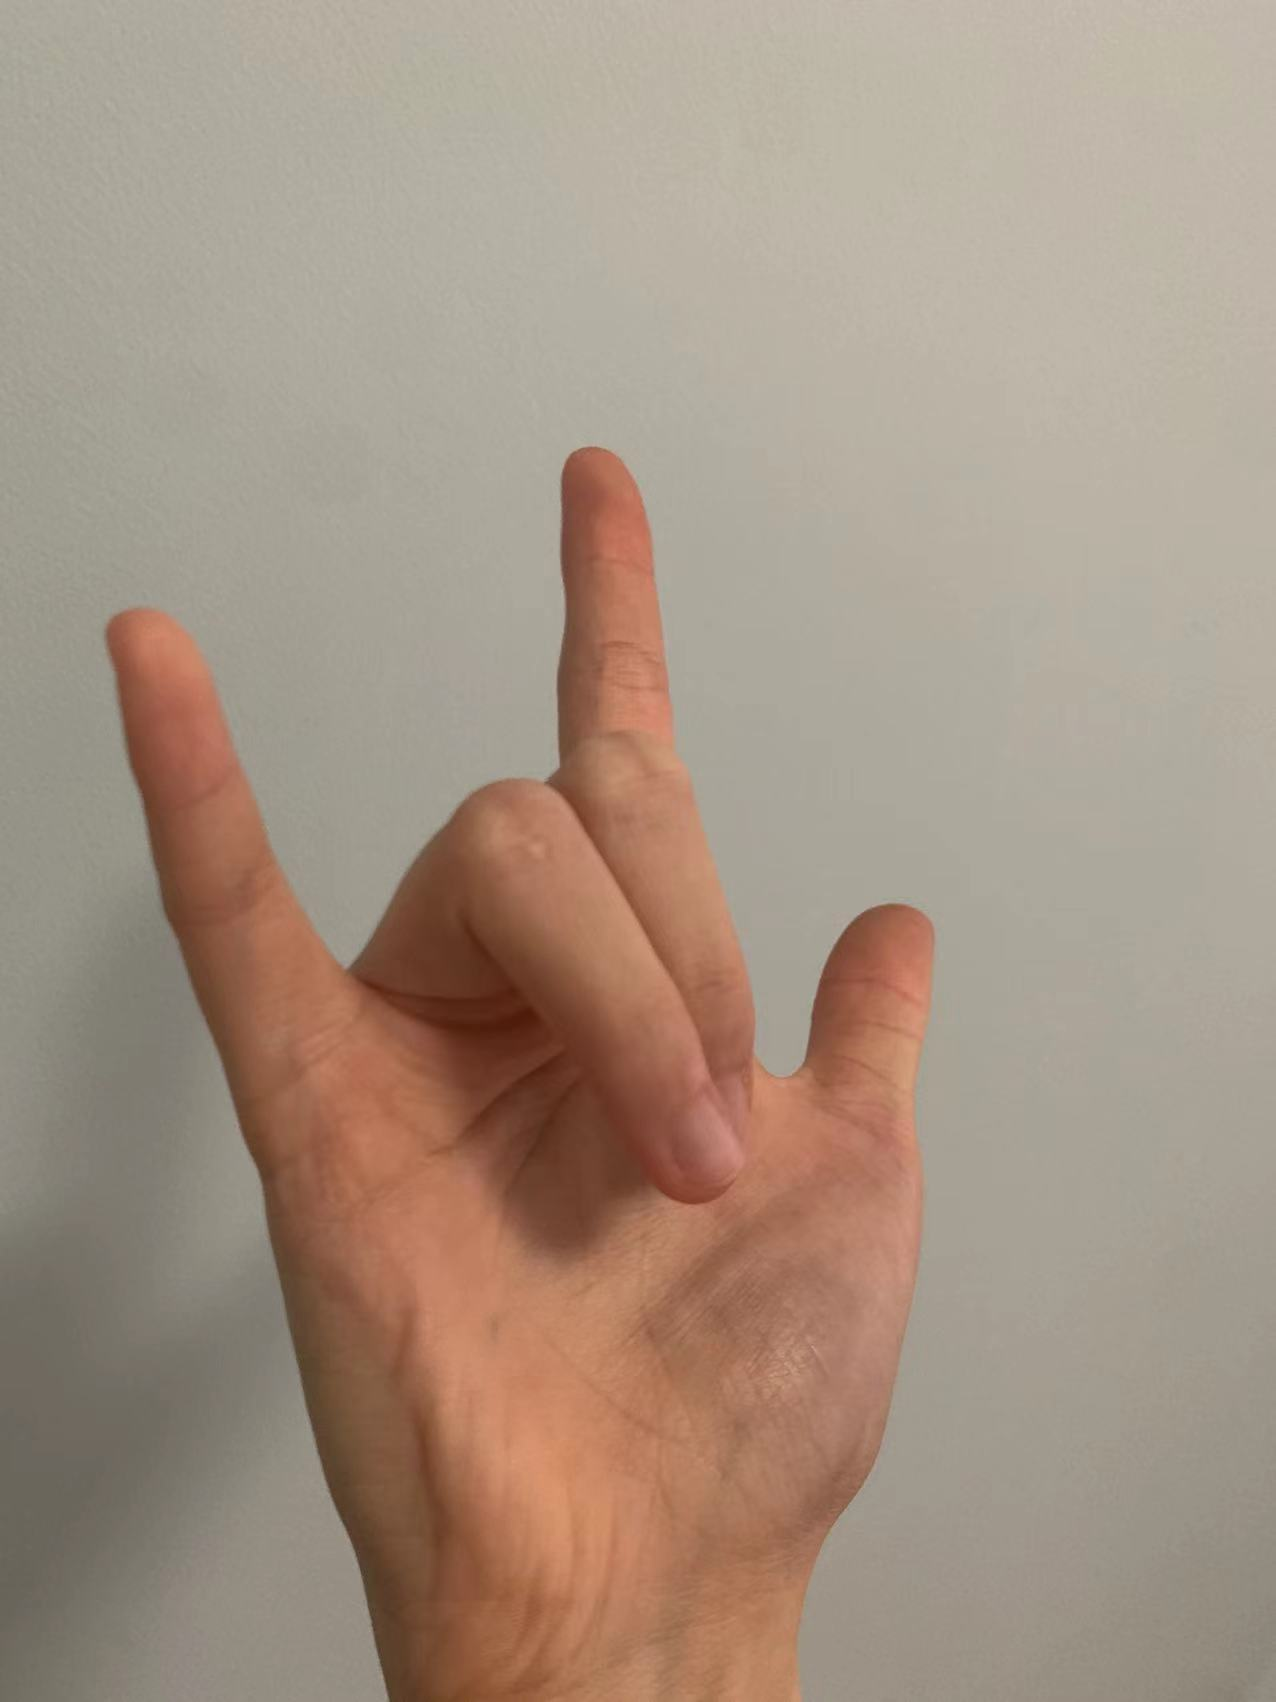back: (98, 433, 945, 1647)
